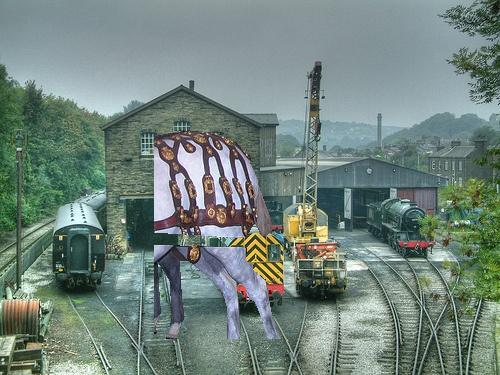tampered: (155, 131, 280, 339)
